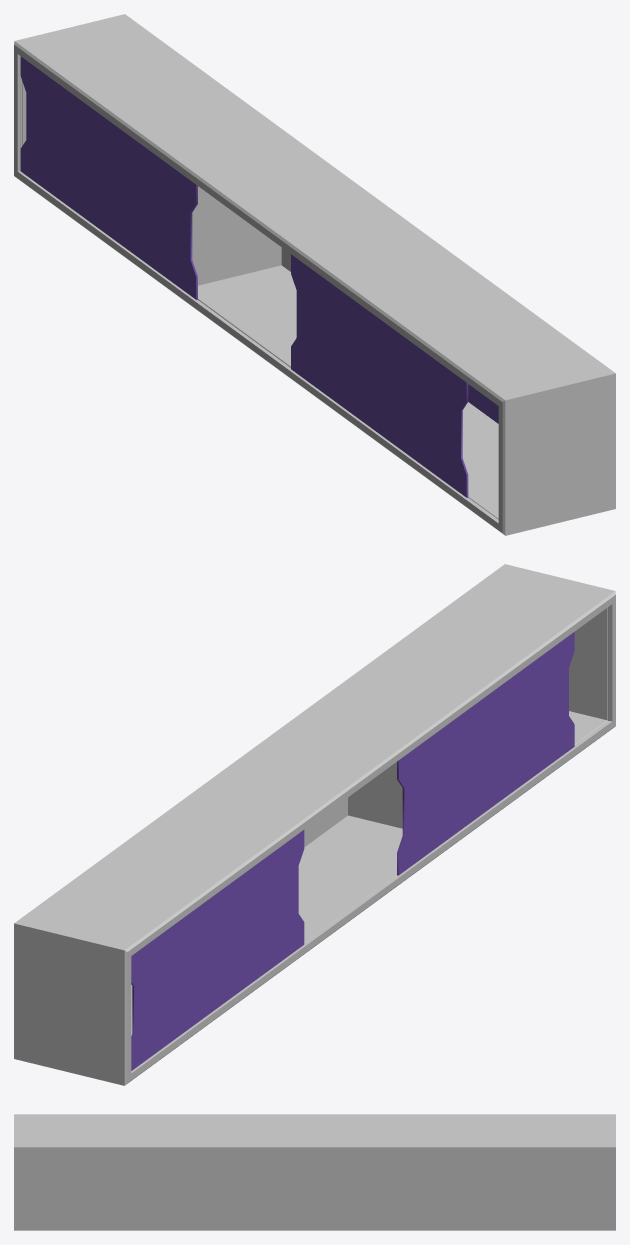
The model's file is OddaWallCabinetWithSlidingDoor.FBX.
3 views of the same model, one above another, from view 1: azimuth 30°, elevation 25°; view 2: azimuth 150°, elevation 25°; view 3: azimuth 270°, elevation 25° (orthographic). The views are drawn at different scales.
Visible parts, largest first — view 1: OddaWallCabinetWithSlidingDoor; view 2: OddaWallCabinetWithSlidingDoor; view 3: OddaWallCabinetWithSlidingDoor.
Part boxes in pixels (x1,y1,x2,y2): OddaWallCabinetWithSlidingDoor: (14, 14, 615, 535); OddaWallCabinetWithSlidingDoor: (14, 564, 615, 1085); OddaWallCabinetWithSlidingDoor: (14, 1114, 615, 1230).
Bounding box in the file's own units: 26 × 197 × 30.
